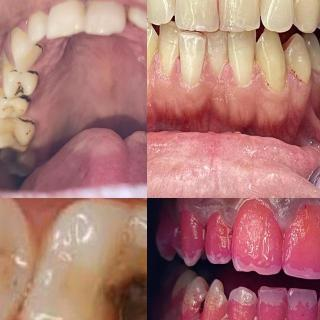cavities: (103, 255, 147, 320), (195, 290, 212, 320)
maligned: (254, 24, 291, 98), (175, 30, 209, 91), (282, 29, 315, 83), (147, 21, 155, 87)
stains: (1, 67, 42, 99), (0, 85, 36, 121), (7, 107, 36, 151), (24, 30, 48, 70), (286, 62, 308, 86)
